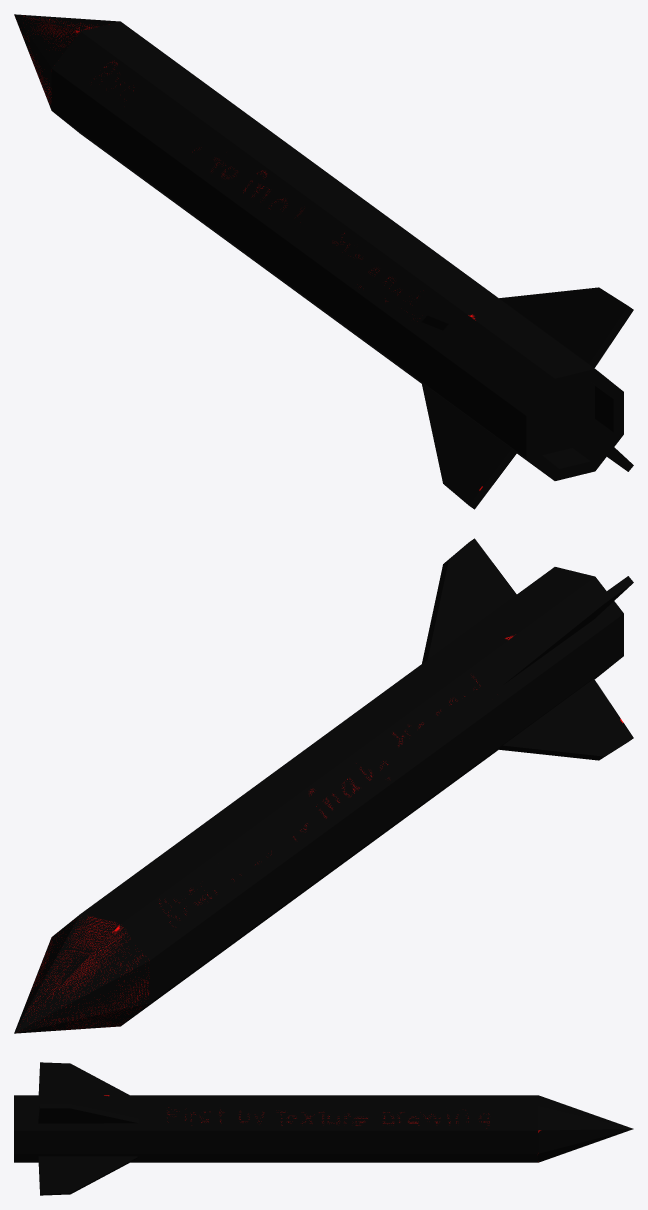
Rendered from Missle.glb.
3 views of the same model, one above another, from view 1: azimuth 30°, elevation 25°; view 2: azimuth 150°, elevation 25°; view 3: azimuth 270°, elevation 25° (orthographic). The views are drawn at different scales.
Visible parts, largest first — view 1: Missle; view 2: Missle; view 3: Missle.
Part boxes in pixels (x1=…): Missle: x1=14, y1=14, x2=633, y2=509; Missle: x1=14, y1=538, x2=633, y2=1033; Missle: x1=14, y1=1062, x2=633, y2=1195.
Size of the model in its own units: 1 by 0.9635 by 5.9.
Materials: 1 (1 with a texture image).
